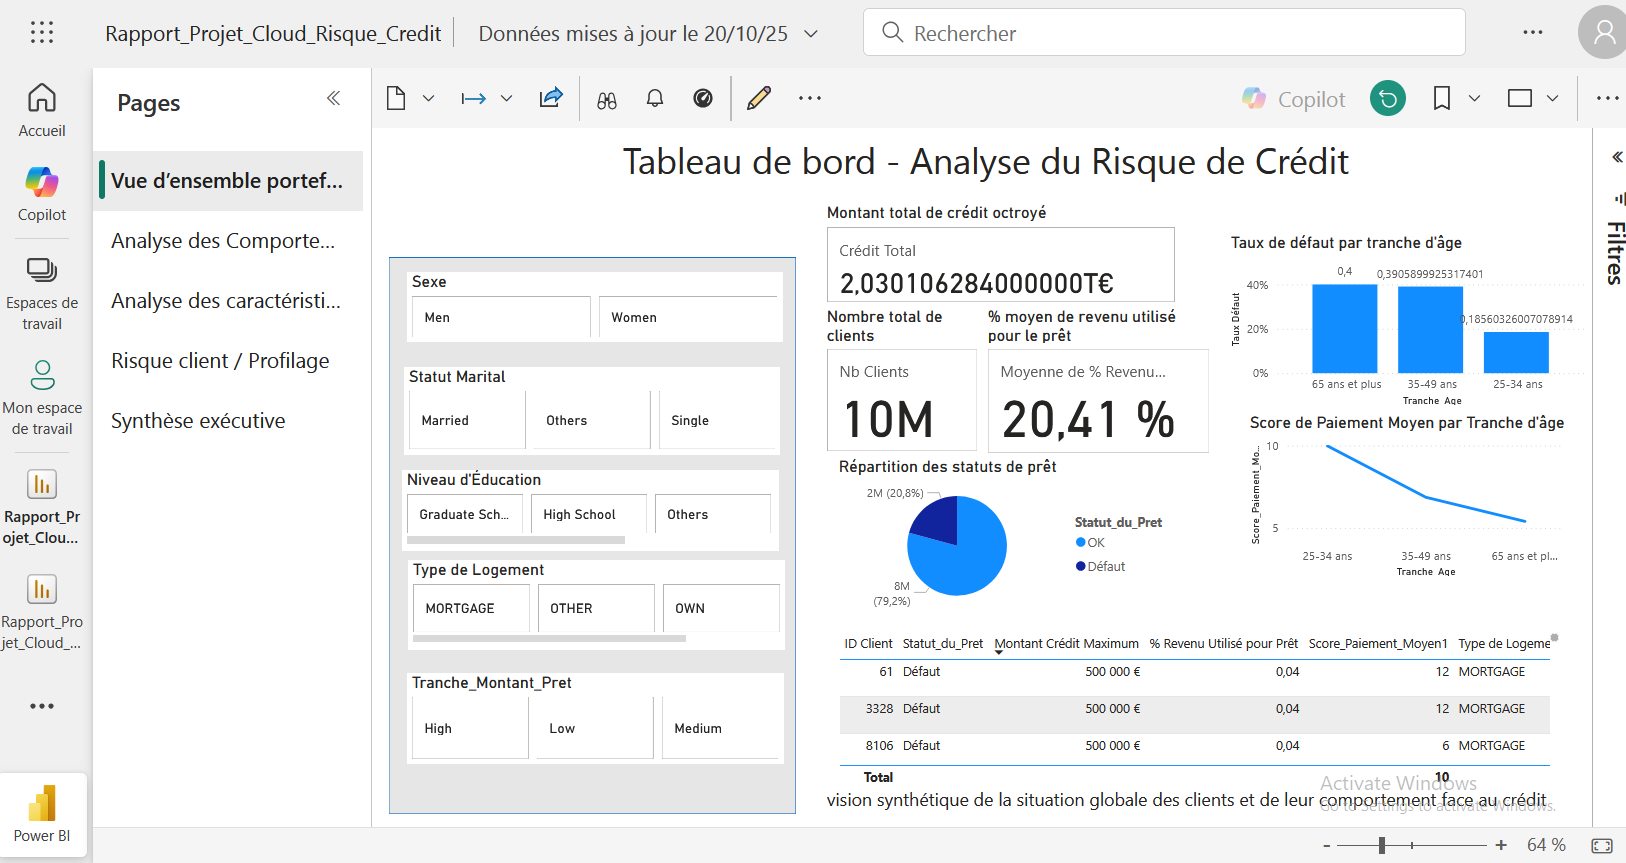

The page's visual inventory and layout, read from the dashboard file:
{"tool":"powerbi","page":{"name":"Vue d’ensemble portefeuille clients","canvas":[1280,720],"ordinal":0},"visuals":[{"type":"cardVisual","title":"Nombre total de clients","fields":{"Data":["Dataset_Risque_de_Credit_Clean.Nb Clients1"]},"box":[472.4,187.1,168.2,156.9],"z":0},{"type":"textbox","box":[78,53,174,150],"z":1000},{"type":"textbox","box":[257.5,3.2,801.5,74.5],"z":2000},{"type":"shape","box":[17.1,135.5,427.7,584.5],"z":3000},{"type":"advancedSlicerVisual","fields":{"Values":["Dataset_Risque_de_Credit_Clean.Sexe"]},"box":[36.7,151.1,395.3,73.4],"z":4000},{"type":"advancedSlicerVisual","fields":{"Values":["Dataset_Risque_de_Credit_Clean.Statut Marital"]},"box":[32.4,249.4,395.1,92.3],"z":5000},{"type":"advancedSlicerVisual","title":"Niveau d''Éducation","fields":{"Values":["Dataset_Risque_de_Credit_Clean.Niveau d'Éducation"]},"box":[32.1,359.1,395,85],"z":6000},{"type":"advancedSlicerVisual","fields":{"Values":["Dataset_Risque_de_Credit_Clean.Type de Logement"]},"box":[37.2,453.4,395.1,93.9],"z":7000},{"type":"clusteredColumnChart","title":"Taux de défaut par tranche d''âge","fields":{"Category":["Dataset_Risque_de_Credit_Clean.Tranche_Age"],"Y":["Dataset_Risque_de_Credit_Clean.Taux Défaut1"]},"box":[895.8,109.6,383.6,185.2],"z":8000},{"type":"pieChart","title":"Répartition des statuts de prêt","fields":{"Category":["Dataset_Risque_de_Credit_Clean.Statut_du_Pret"],"Y":["Dataset_Risque_de_Credit_Clean.Nb Clients1"]},"box":[483.8,343.9,364.7,166.3],"z":9000},{"type":"cardVisual","title":"Montant total de crédit octroyé","fields":{"Data":["Dataset_Risque_de_Credit_Clean.Crédit Total"]},"box":[471.9,78.1,375.9,109],"z":10000},{"type":"advancedSlicerVisual","fields":{"Values":["Dataset_Risque_de_Credit_Clean.Tranche_Montant_Pret"]},"box":[36.3,571.7,395.7,96],"z":11000},{"type":"tableEx","fields":{"Values":["Dataset_Risque_de_Credit_Clean.ID Client","Dataset_Risque_de_Credit_Clean.Statut_du_Pret","Dataset_Risque_de_Credit_Clean.Montant Crédit Maximum","Dataset_Risque_de_Credit_Clean.% Revenu Utilisé pour Prêt","Dataset_Risque_de_Credit_Clean.Score_Paiement_Moyen1","Dataset_Risque_de_Credit_Clean.Type de Logement","Dataset_Risque_de_Credit_Clean.Objet du Prêt"]},"box":[483.8,523.5,765.4,179.5],"z":12000},{"type":"cardVisual","title":"% moyen de revenu utilisé pour le prêt","fields":{"Data":["Avg(Dataset_Risque_de_Credit_Clean.% Revenu Utilisé pour Prêt)"]},"box":[640.6,187.1,243.8,158.7],"z":13000},{"type":"lineChart","title":"Score de Paiement Moyen par Tranche d''âge","fields":{"Category":["Dataset_Risque_de_Credit_Clean.Tranche_Age"],"Y":["Dataset_Risque_de_Credit_Clean.Score_Paiement_Moyen1"]},"box":[916.3,298.7,347.7,176],"z":14000},{"type":"textbox","box":[472.4,686,806.9,34],"z":17000}]}

Visuals, with their boxes on the page's 1280x720 design canvas (x1, y1, x2, y2). These are canvas units, not pixel positions in the 1626x863 screenshot, which may show the page scaled, cropped or inside an application window:
"Nombre total de clients" cardVisual: x1=472 y1=187 x2=641 y2=344
textbox: x1=78 y1=53 x2=252 y2=203
textbox: x1=258 y1=3 x2=1059 y2=78
shape: x1=17 y1=136 x2=445 y2=720
advancedSlicerVisual - Dataset_Risque_de_Credit_Clean.Sexe: x1=37 y1=151 x2=432 y2=224
advancedSlicerVisual - Dataset_Risque_de_Credit_Clean.Statut Marital: x1=32 y1=249 x2=428 y2=342
"Niveau d''Éducation" advancedSlicerVisual: x1=32 y1=359 x2=427 y2=444
advancedSlicerVisual - Dataset_Risque_de_Credit_Clean.Type de Logement: x1=37 y1=453 x2=432 y2=547
"Taux de défaut par tranche d''âge" clusteredColumnChart: x1=896 y1=110 x2=1279 y2=295
"Répartition des statuts de prêt" pieChart: x1=484 y1=344 x2=848 y2=510
"Montant total de crédit octroyé" cardVisual: x1=472 y1=78 x2=848 y2=187
advancedSlicerVisual - Dataset_Risque_de_Credit_Clean.Tranche_Montant_Pret: x1=36 y1=572 x2=432 y2=668
tableEx - Dataset_Risque_de_Credit_Clean.ID Client x Dataset_Risque_de_Credit_Clean.Statut_du_Pret: x1=484 y1=524 x2=1249 y2=703
"% moyen de revenu utilisé pour le prêt" cardVisual: x1=641 y1=187 x2=884 y2=346
"Score de Paiement Moyen par Tranche d''âge" lineChart: x1=916 y1=299 x2=1264 y2=475
textbox: x1=472 y1=686 x2=1279 y2=720
